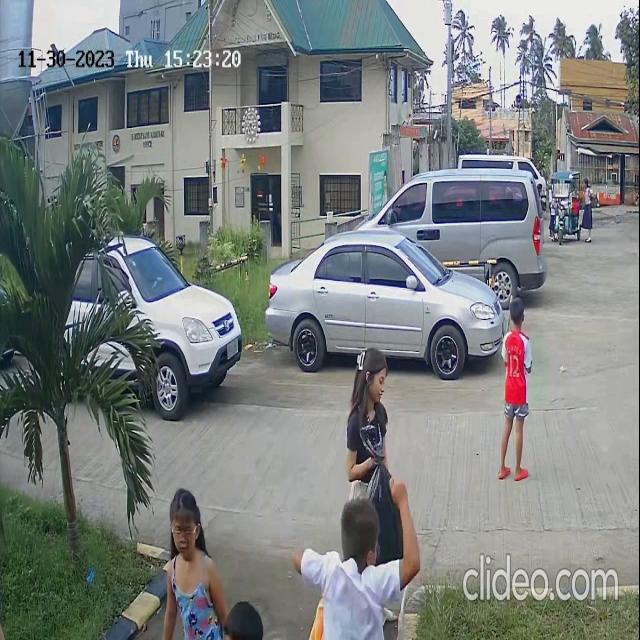person: (161, 483, 212, 608), (347, 339, 389, 465), (502, 302, 532, 398)
